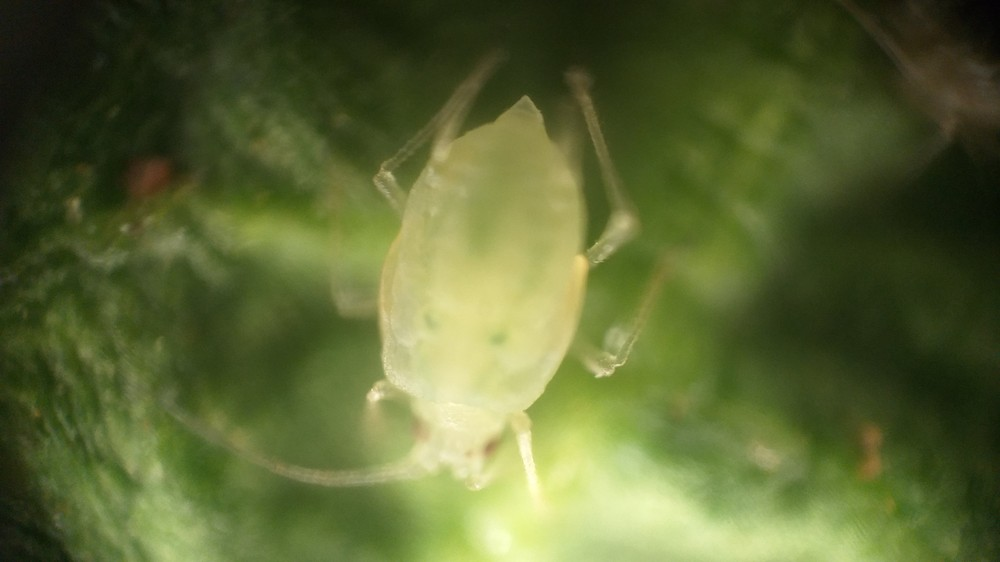Pulgon: (210, 29, 687, 558)
